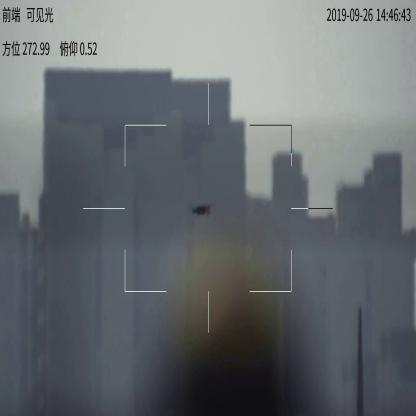uav: (190, 202, 214, 220)
